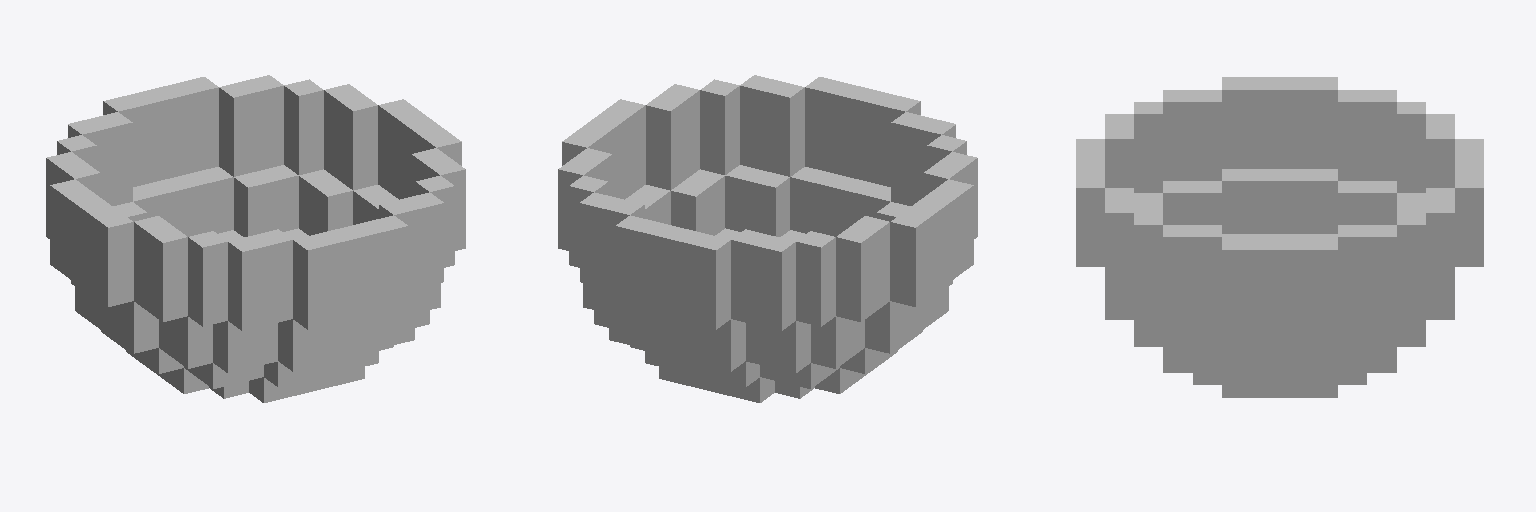
File: cooking_mixing_glass_bowl.obj
3 renders of one model, left to right at view 1: azimuth 30°, elevation 25°; view 2: azimuth 150°, elevation 25°; view 3: azimuth 270°, elevation 25°, orthographic.
Parts seen in each view (by area): view 1: node_0_0_0.020; view 2: node_0_0_0.020; view 3: node_0_0_0.020.
Boxes of the visible parts, x1,y1,x2,y2 form: node_0_0_0.020: [46, 75, 465, 402]; node_0_0_0.020: [558, 75, 977, 402]; node_0_0_0.020: [1076, 77, 1483, 397].
Size of the model in its own units: 0.875 by 0.4375 by 0.875.